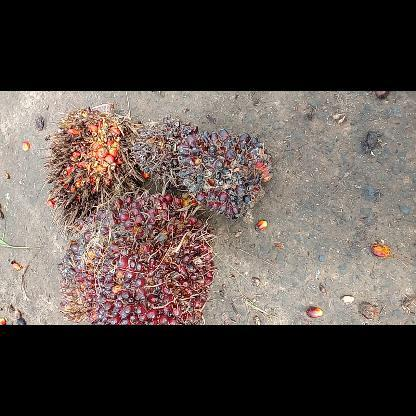TBS abnormal: (171, 124, 277, 224), (131, 114, 203, 192)
TBS masak: (56, 186, 216, 324)
Terlalu masak: (41, 100, 141, 242)
